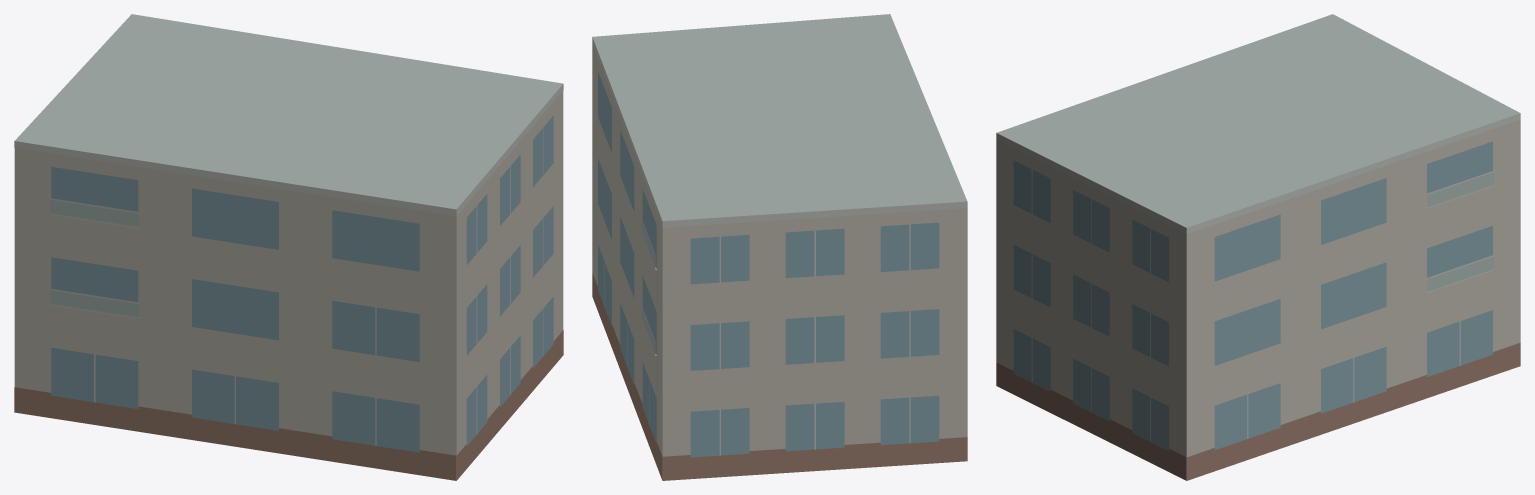
Rendered from survey-upis-32933019.glb.
The picture shows the model from 3 angles, left to right: view 1: azimuth 30°, elevation 25°; view 2: azimuth 150°, elevation 25°; view 3: azimuth 270°, elevation 25°; orthographic projection. The views are drawn at different scales.
Visible parts, largest first — view 1: survey-upis-32933019.tmp; view 2: survey-upis-32933019.tmp; view 3: survey-upis-32933019.tmp.
Boxes of the visible parts, x1,y1,x2,y2 form: survey-upis-32933019.tmp: (14,14,563,480); survey-upis-32933019.tmp: (592,14,967,480); survey-upis-32933019.tmp: (996,14,1520,480).
Bounding box in the file's own units: 17.79 × 9.8 × 18.42.
